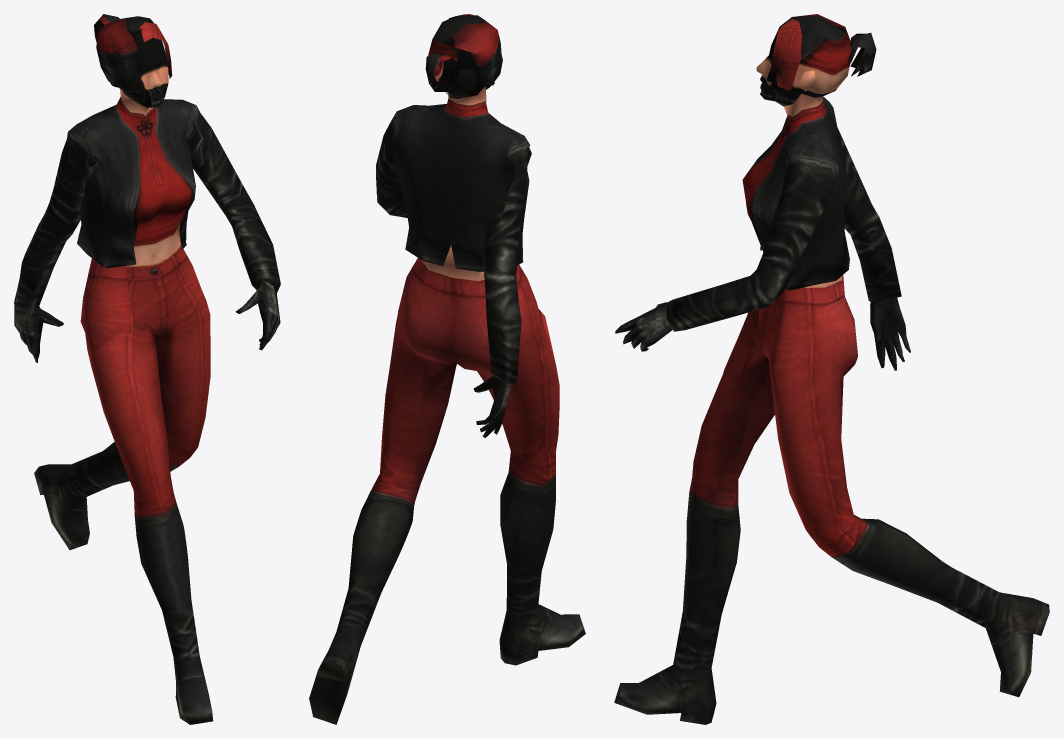
The picture shows the model from 3 angles, left to right: view 1: azimuth 30°, elevation 25°; view 2: azimuth 150°, elevation 25°; view 3: azimuth 270°, elevation 25°; orthographic projection. The views are drawn at different scales.
Parts seen in each view (by area): view 1: SketchUp (×5); view 2: SketchUp (×4); view 3: SketchUp (×5).
Part boxes in pixels (bbox=[...]): SketchUp (×5): bbox=[14, 16, 280, 724]; SketchUp (×4): bbox=[309, 15, 585, 724]; SketchUp (×5): bbox=[614, 14, 1049, 724].
Size of the model in its own units: 63.85 by 120 by 213.
2 materials, 2 textured.
